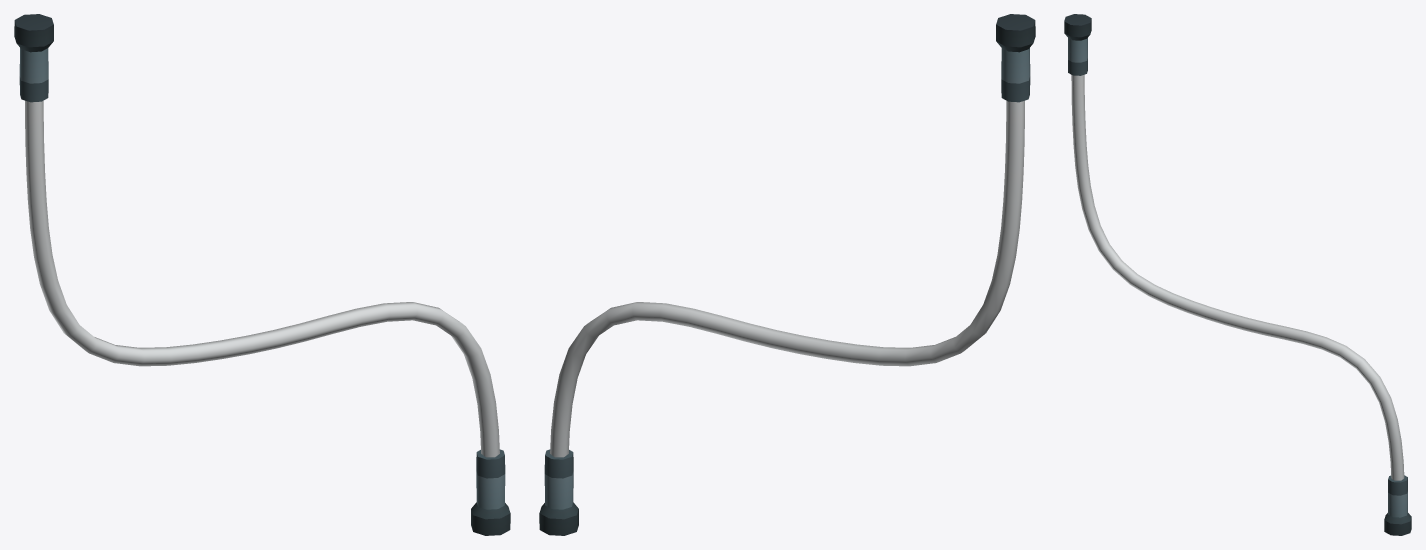
Rendered from Cable_type_C_010.glb.
The picture shows the model from 3 angles, left to right: view 1: azimuth 30°, elevation 25°; view 2: azimuth 150°, elevation 25°; view 3: azimuth 330°, elevation 25°; orthographic projection. The views are drawn at different scales.
Visible parts, largest first — view 1: Cable_type_C_010; view 2: Cable_type_C_010; view 3: Cable_type_C_010.
Boxes of the visible parts, x1,y1,x2,y2 form: Cable_type_C_010: (14, 14, 510, 535); Cable_type_C_010: (539, 14, 1035, 535); Cable_type_C_010: (1064, 14, 1411, 535).
Size of the model in its own units: 1.09 by 1.31 by 0.0783.
Materials: 1 (1 with a texture image).
